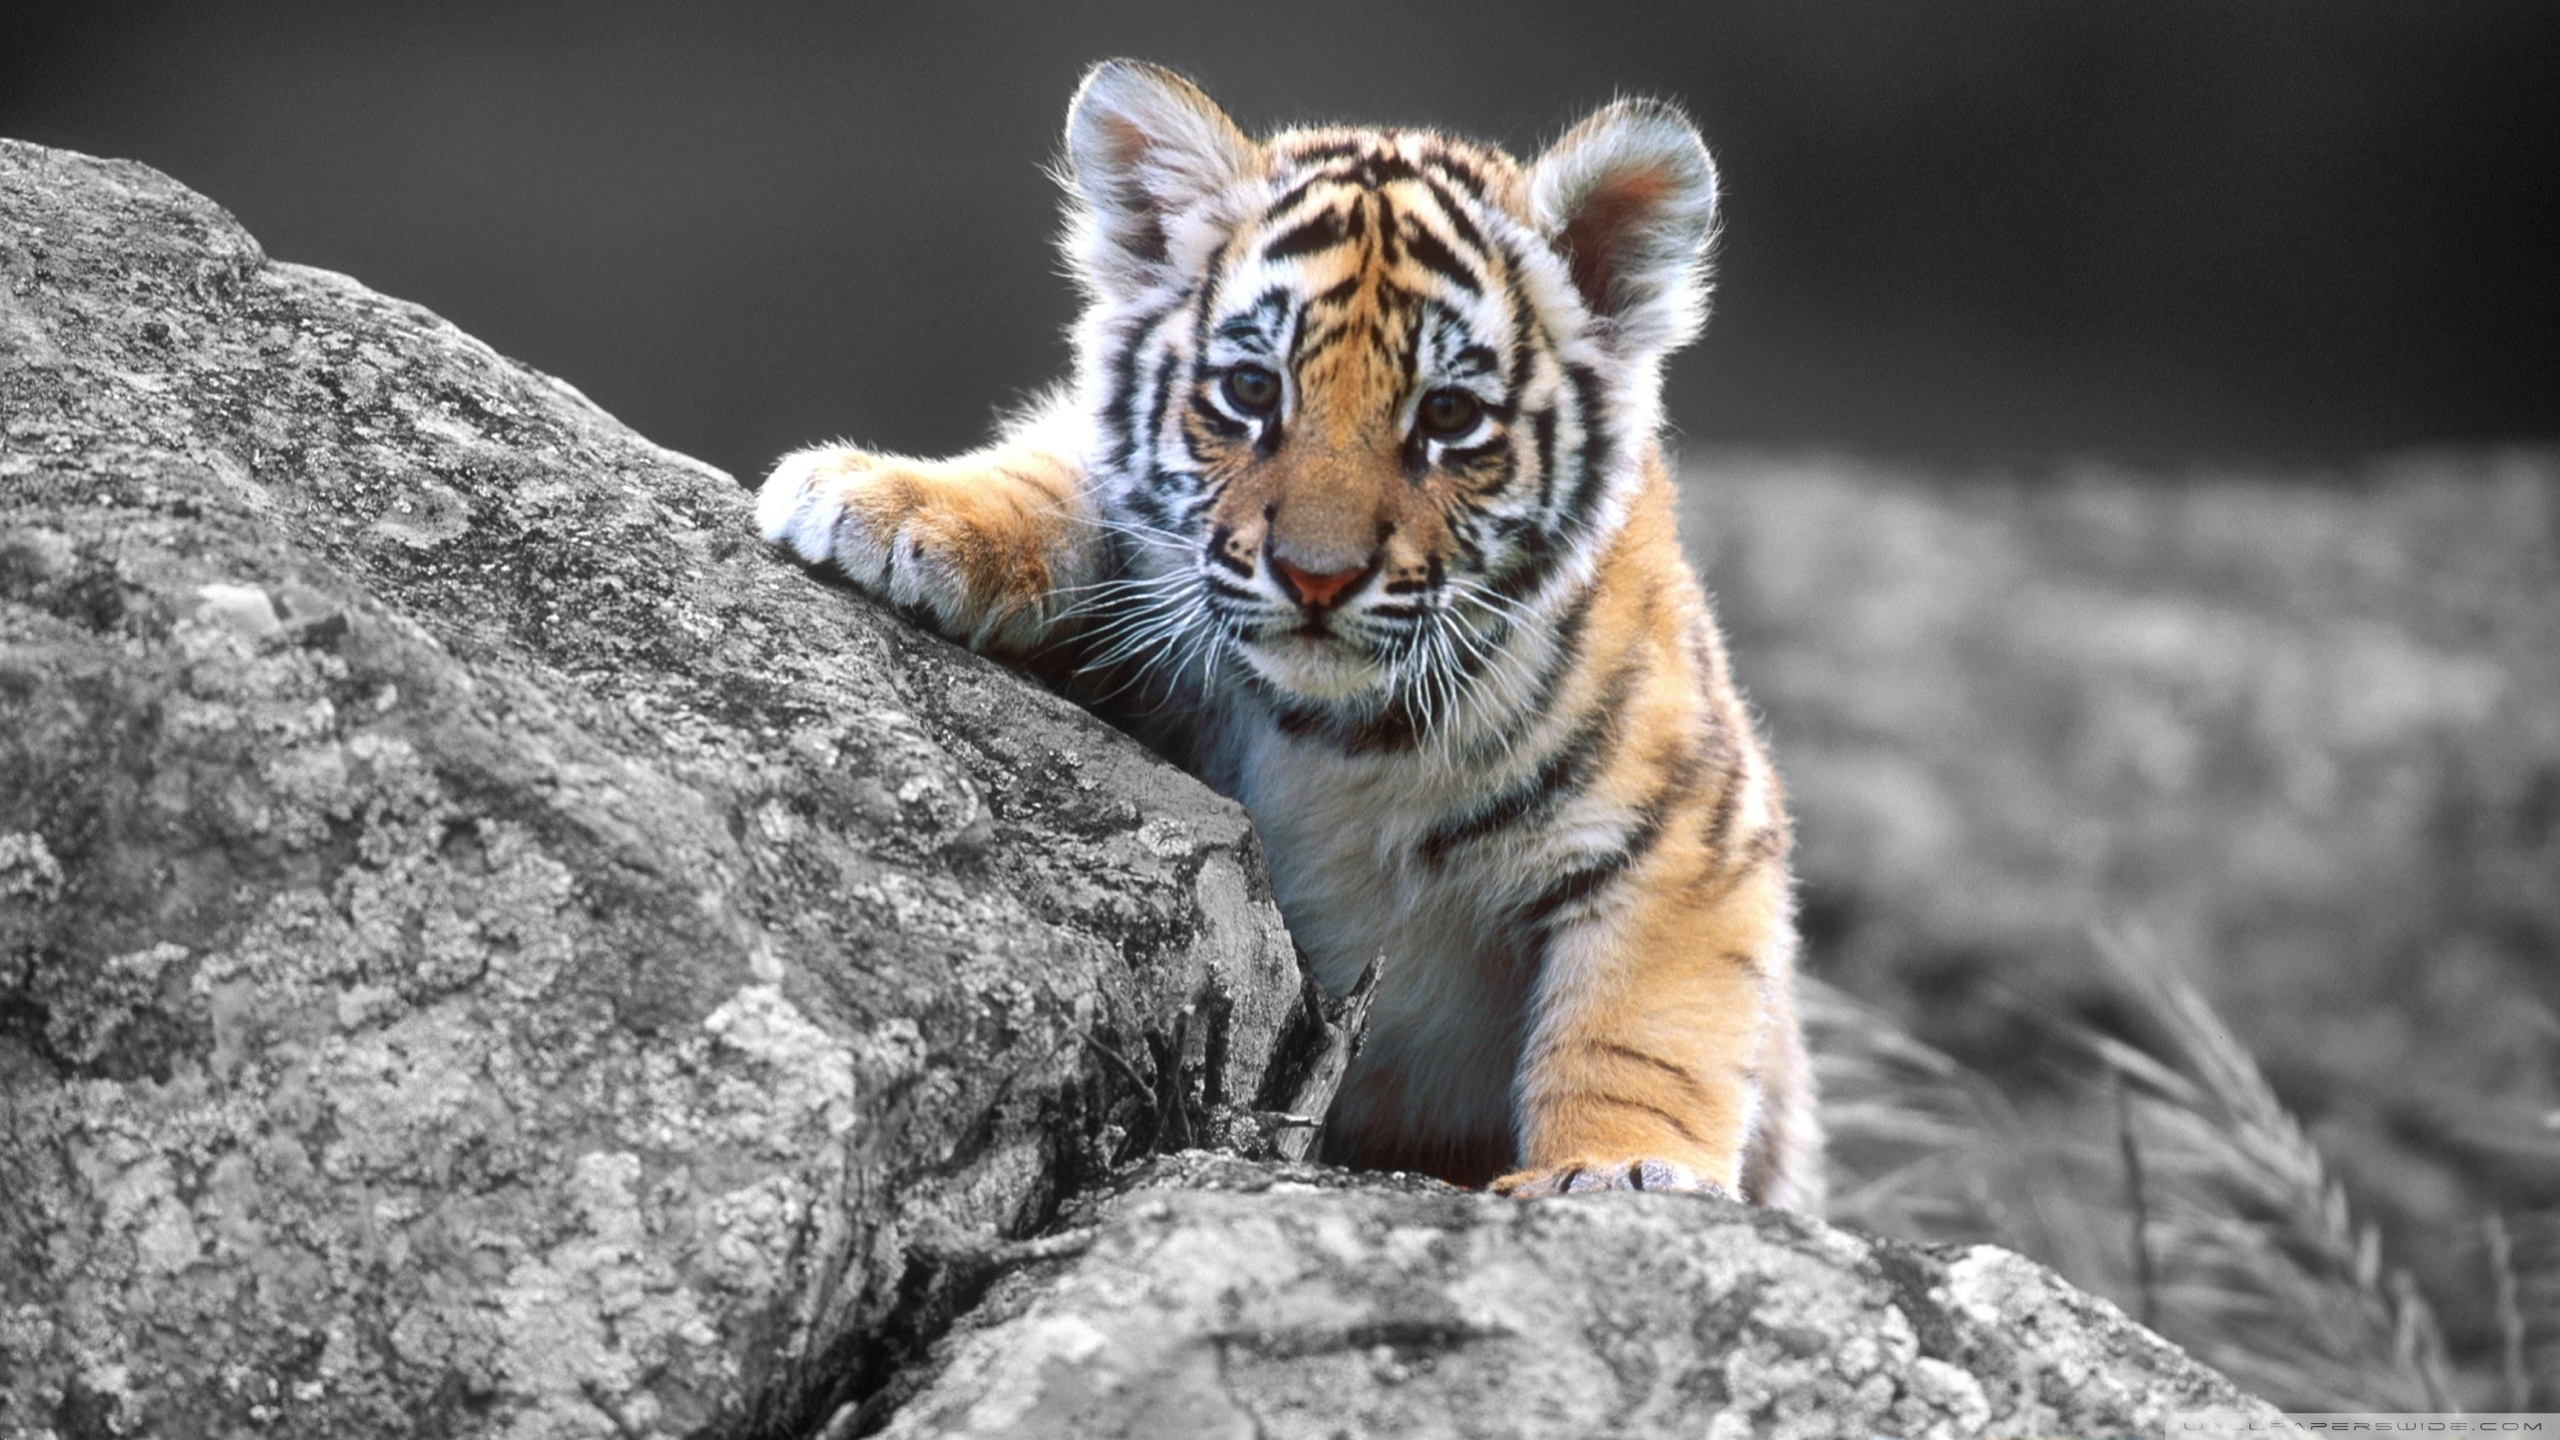tiger: (798, 49, 1929, 1276)
